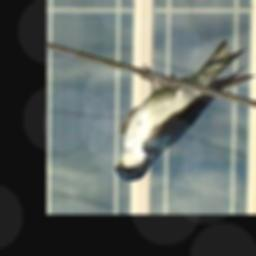Swallow: (114, 38, 256, 183)
